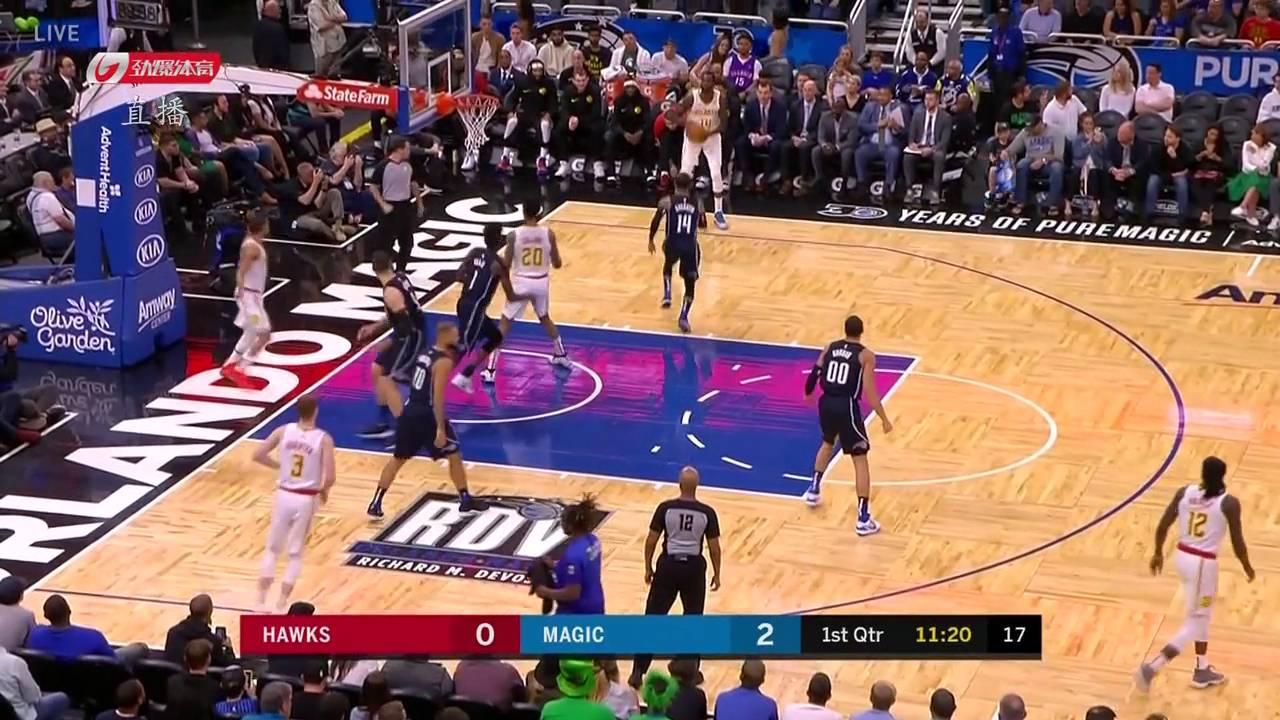basketball: (683, 124, 707, 146), (677, 134, 681, 136)
